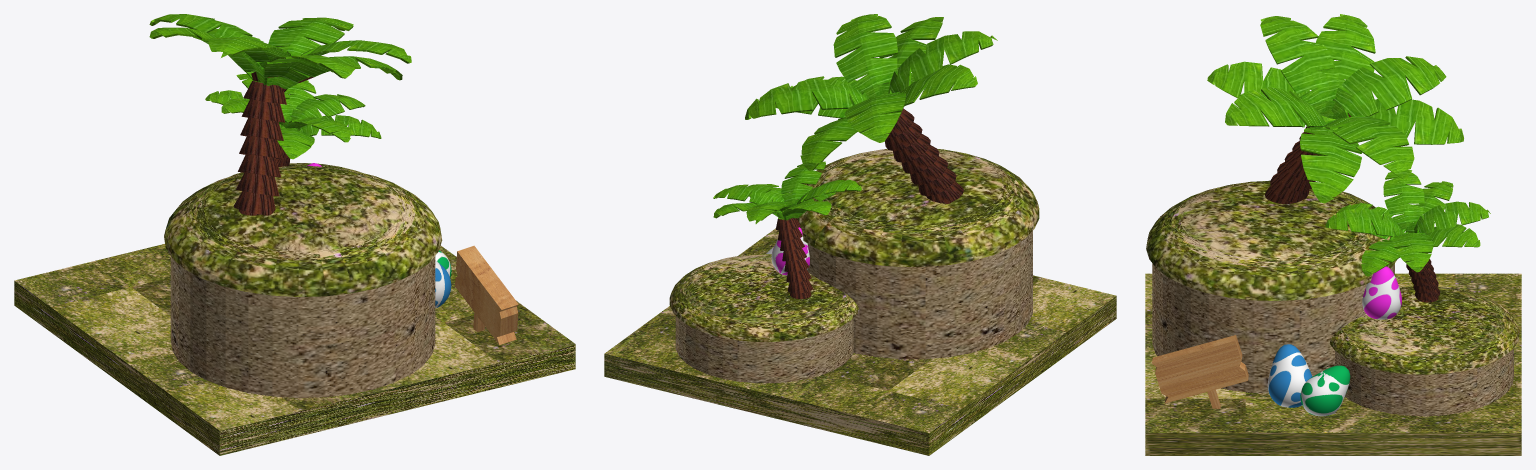
The model's file is entornoYoshi.glb.
3 renders of one model, left to right at view 1: azimuth 30°, elevation 25°; view 2: azimuth 150°, elevation 25°; view 3: azimuth 270°, elevation 25°, orthographic. The views are drawn at different scales.
Visible parts, largest first — view 1: Cube, Cylinder.006, Cylinder, Cylinder.004, Cylinder.002, Cylinder.005, Cube.001, Cube.002; view 2: Cube, Cylinder.006, Cylinder, Cylinder.004, Cylinder.007, Cylinder.001, Cylinder.005, Cylinder.002, Cylinder.003; view 3: Cylinder.004, Cube, Cylinder.006, Cylinder, Cylinder.007, Cylinder.005, Cylinder.001, Cube.001, Cube.002, Cube.003, Cylinder.002, Cube.004 (+1 smaller).
Boxes of the visible parts, x1,y1,x2,y2 form: Cube: [14, 244, 575, 455]; Cylinder.006: [164, 166, 442, 296]; Cylinder: [170, 256, 435, 397]; Cylinder.004: [149, 14, 411, 89]; Cylinder.002: [233, 72, 313, 215]; Cylinder.005: [205, 74, 381, 159]; Cube.001: [455, 245, 518, 344]; Cube.002: [435, 260, 451, 308]; Cube: [604, 228, 1116, 455]; Cylinder.006: [796, 149, 1039, 266]; Cylinder: [807, 231, 1032, 359]; Cylinder.004: [745, 14, 997, 170]; Cylinder.007: [669, 254, 858, 341]; Cylinder.001: [675, 316, 853, 383]; Cylinder.005: [713, 161, 861, 223]; Cylinder.002: [885, 108, 963, 203]; Cylinder.003: [776, 218, 812, 299]; Cylinder.004: [1207, 14, 1463, 203]; Cube: [1145, 273, 1521, 455]; Cylinder.006: [1146, 180, 1397, 300]; Cylinder: [1152, 263, 1394, 393]; Cylinder.007: [1329, 286, 1519, 374]; Cylinder.005: [1325, 172, 1490, 276]; Cylinder.001: [1335, 348, 1513, 416]; Cube.001: [1152, 335, 1248, 408]; Cube.002: [1267, 344, 1312, 407]; Cube.003: [1300, 365, 1350, 416]; Cylinder.002: [1265, 113, 1350, 203]; Cube.004: [1362, 266, 1401, 319].
Size of the model in its own units: 11.41 by 10.44 by 11.41.
Materials: 8 (8 with a texture image).
